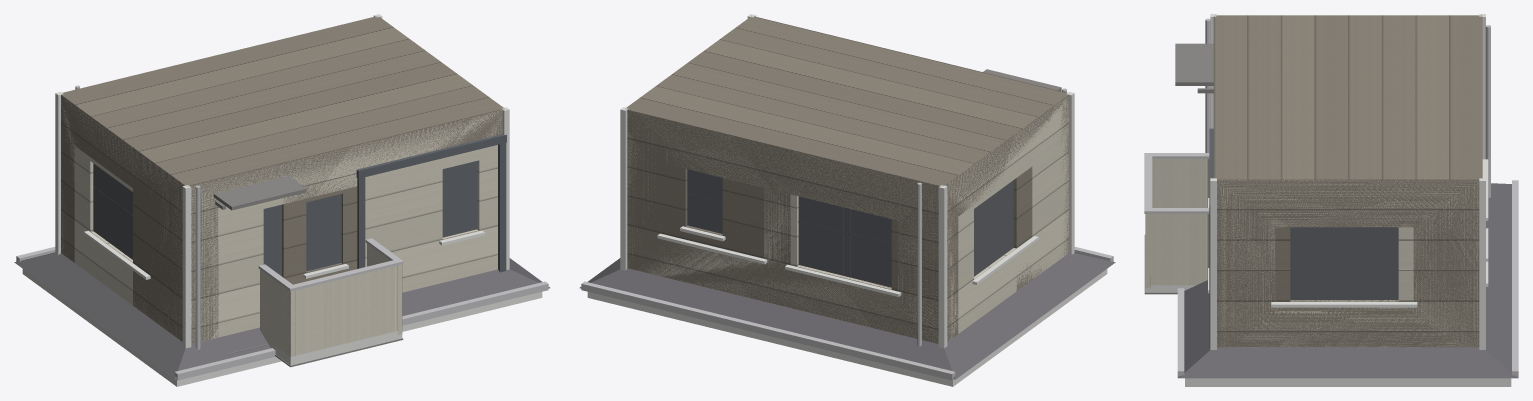
The model's file is neighbor_house.glb.
3 views of the same model, side by side, from view 1: azimuth 30°, elevation 25°; view 2: azimuth 150°, elevation 25°; view 3: azimuth 270°, elevation 25° (orthographic). The views are drawn at different scales.
Visible parts, largest first — view 1: nh_base_wall, nh_mid_wall, nh_mid_rail, nh_roof_hip, nh_base_sash, nh_base_trim, nh_roof_eave, nh_mid_sash, nh_base_pipe, nh_mid_sill; view 2: nh_base_wall, nh_mid_wall, nh_roof_hip, nh_base_sash, nh_roof_eave, nh_base_trim, nh_mid_sash, nh_mid_sill, nh_base_pipe, nh_base_sill; view 3: nh_base_wall, nh_mid_wall, nh_roof_hip, nh_mid_rail, nh_base_sash, nh_base_trim, nh_roof_eave, nh_mid_sash, nh_base_pipe, nh_base_sill, nh_mid_sill.
Boxes of the visible parts, box(x1,y1,x2,y2) form: nh_base_wall: box(61, 16, 504, 343); nh_mid_wall: box(61, 96, 502, 343); nh_mid_rail: box(258, 238, 403, 367); nh_roof_hip: box(14, 252, 550, 379); nh_base_sash: box(93, 134, 506, 272); nh_base_trim: box(55, 14, 509, 354); nh_roof_eave: box(16, 247, 548, 386); nh_mid_sash: box(93, 164, 477, 276); nh_base_pipe: box(75, 85, 200, 349); nh_mid_sill: box(84, 230, 484, 279); nh_base_wall: box(625, 16, 1068, 343); nh_mid_wall: box(627, 96, 1068, 343); nh_roof_hip: box(579, 252, 1115, 379); nh_base_sash: box(687, 169, 1013, 287); nh_roof_eave: box(581, 247, 1113, 386); nh_base_trim: box(620, 14, 1074, 348); nh_mid_sash: box(687, 169, 1013, 287); nh_mid_sill: box(657, 233, 1038, 296); nh_base_pipe: box(917, 88, 1066, 346); nh_base_sill: box(680, 226, 893, 295); nh_base_wall: box(1213, 15, 1482, 347); nh_mid_wall: box(1217, 179, 1479, 347); nh_roof_hip: box(1178, 183, 1517, 378); nh_mid_rail: box(1144, 153, 1209, 294); nh_base_sash: box(1209, 128, 1398, 348); nh_base_trim: box(1175, 14, 1485, 349); nh_roof_eave: box(1177, 180, 1518, 386); nh_mid_sash: box(1290, 227, 1397, 299); nh_base_pipe: box(1205, 18, 1490, 197); nh_base_sill: box(1208, 164, 1488, 307); nh_mid_sill: box(1208, 159, 1488, 307).
Size of the model in its own units: 6.14 by 2.88 by 5.
Materials: 11 (2 with a texture image).
